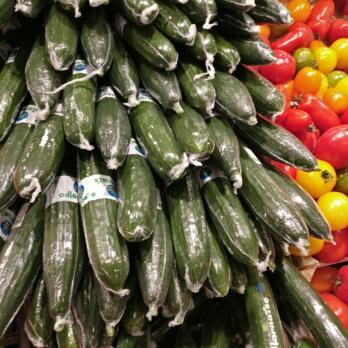Cucumber: (0, 1, 264, 348), (253, 261, 321, 348)
